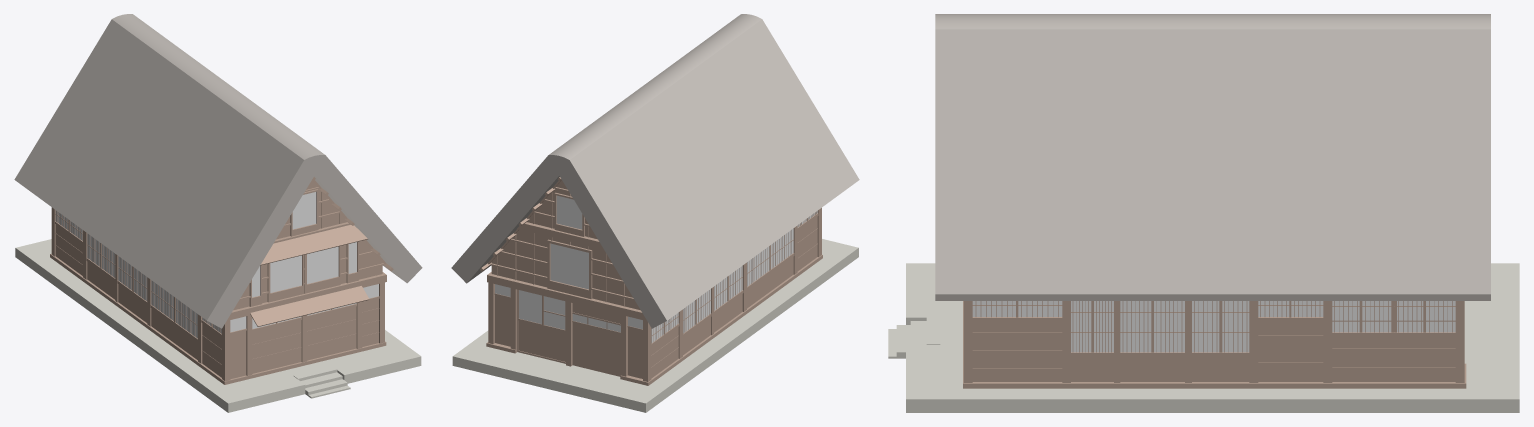
The model's file is 945_house_gasshouzukuri.glb.
3 views of the same model, side by side, from view 1: azimuth 30°, elevation 25°; view 2: azimuth 150°, elevation 25°; view 3: azimuth 270°, elevation 25° (orthographic). The views are drawn at different scales.
Visible parts, largest first — view 1: body, body2; view 2: body, body2; view 3: body, body2.
Boxes of the visible parts, box(x1,y1,x2,y2) form: body: box(14, 14, 422, 384); body2: box(15, 239, 421, 412); body: box(451, 14, 859, 385); body2: box(452, 239, 858, 412); body: box(935, 14, 1490, 388); body2: box(888, 263, 1519, 412).
Size of the model in its own units: 11.94 by 11.96 by 20.99.
